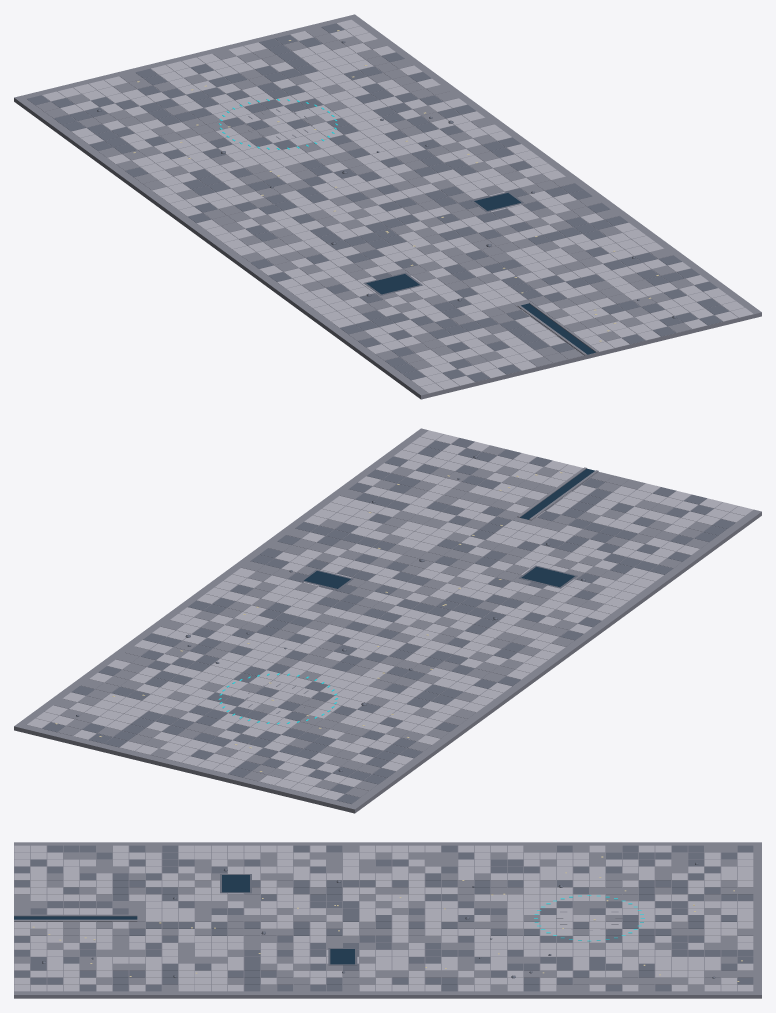
File: archive_deep_floor.glb
3 views of the same model, one above another, from view 1: azimuth 30°, elevation 25°; view 2: azimuth 150°, elevation 25°; view 3: azimuth 270°, elevation 25° (orthographic). The views are drawn at different scales.
Parts seen in each view (by area): view 1: base; view 2: base; view 3: base.
Part boxes in pixels (bbox=[...]): base: bbox=[14, 14, 761, 399]; base: bbox=[14, 428, 761, 813]; base: bbox=[14, 842, 761, 998].
Bounding box in the file's own units: 44 × 0.7732 × 91.
